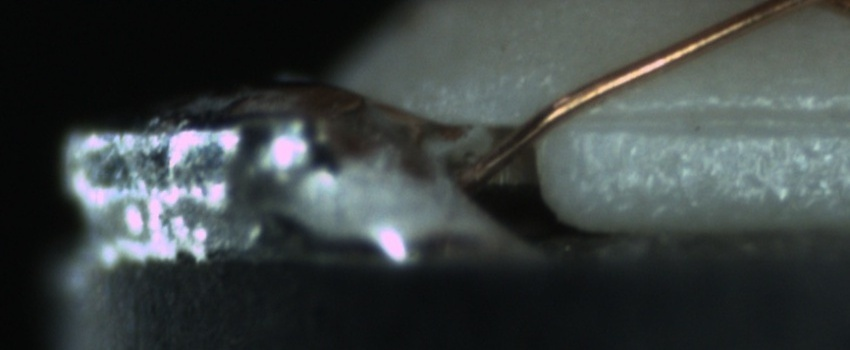CL: (768, 0, 845, 17)
DL: (575, 84, 841, 154)
